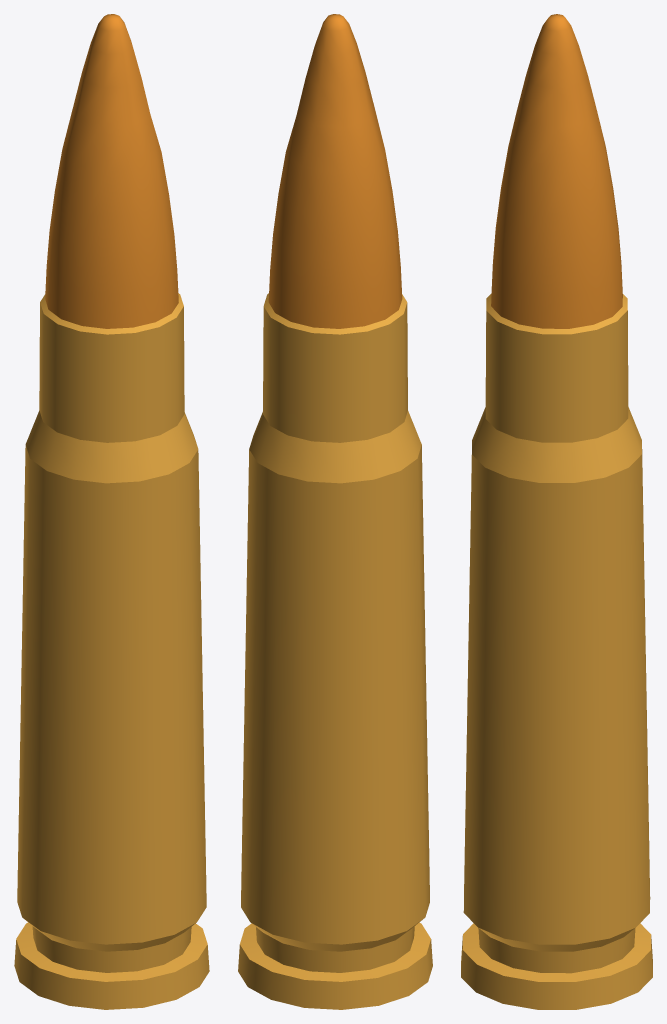
Rendered from ammo5-food.fbx.
3 renders of one model, left to right at view 1: azimuth 30°, elevation 25°; view 2: azimuth 150°, elevation 25°; view 3: azimuth 270°, elevation 25°, orthographic.
Parts seen in each view (by area): view 1: ammo5-food; view 2: ammo5-food; view 3: ammo5-food.
Boxes of the visible parts, box(x1,y1,x2,y2) form: ammo5-food: box(14, 14, 209, 1009); ammo5-food: box(238, 14, 432, 1009); ammo5-food: box(461, 14, 652, 1009).
Bounding box in the file's own units: 0.0124 × 0.0681 × 0.0124.
